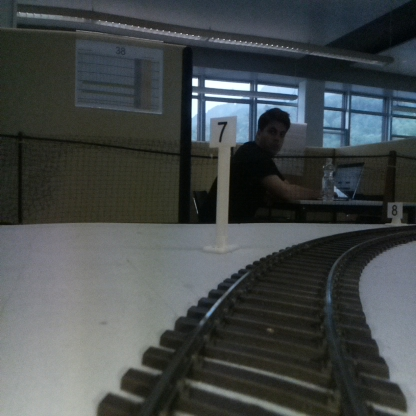black-info-7: (210, 116, 236, 250)
white-stop-8: (387, 202, 402, 225)
